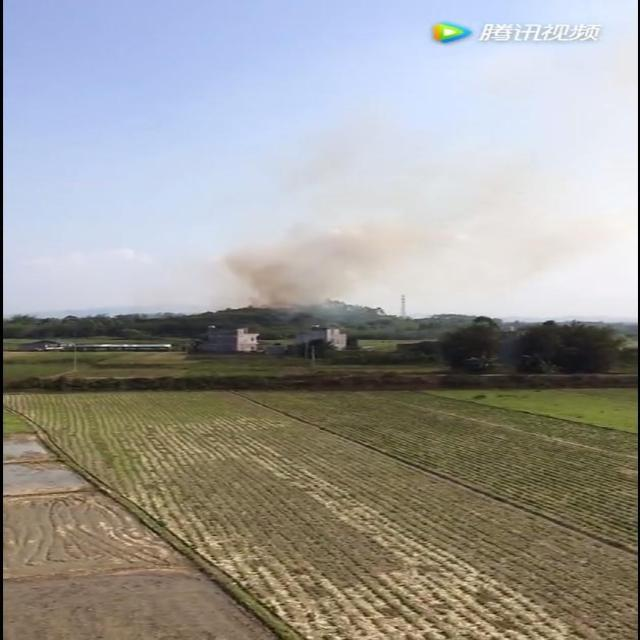smoke: (211, 46, 639, 306)
